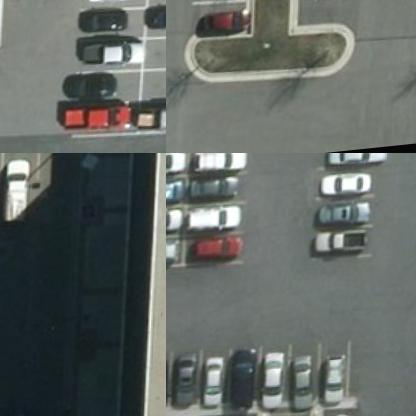car: (54, 109, 125, 144), (0, 163, 35, 234), (186, 206, 247, 240), (68, 13, 126, 48), (186, 239, 247, 272), (306, 233, 367, 266), (307, 207, 368, 240), (186, 178, 248, 210), (255, 349, 285, 415), (310, 178, 370, 211), (192, 8, 248, 43), (228, 349, 257, 415), (76, 48, 139, 78), (286, 353, 316, 415), (186, 153, 248, 183), (317, 358, 346, 415), (323, 153, 385, 178), (172, 356, 198, 412), (192, 366, 220, 415), (73, 82, 116, 110), (133, 112, 165, 147), (81, 0, 135, 14), (144, 12, 165, 45), (166, 180, 183, 214), (166, 153, 184, 184), (166, 238, 181, 272), (166, 209, 181, 243)
